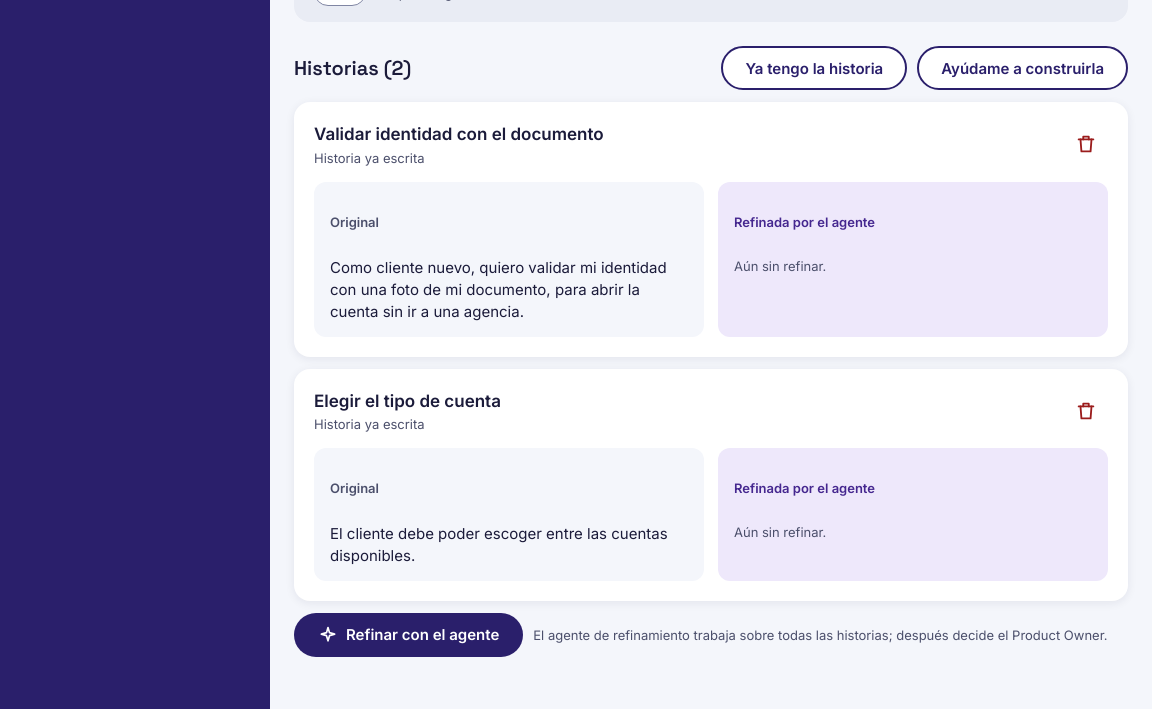
Scenario: flujo de la fase 1 con el cliente en memoria › quien no es aprobador no ve pendientes ajenos
(page scrolled)
Click the button "Refinar con el agente" at point(409, 635), box [294,613,523,657]
(page scrolled)
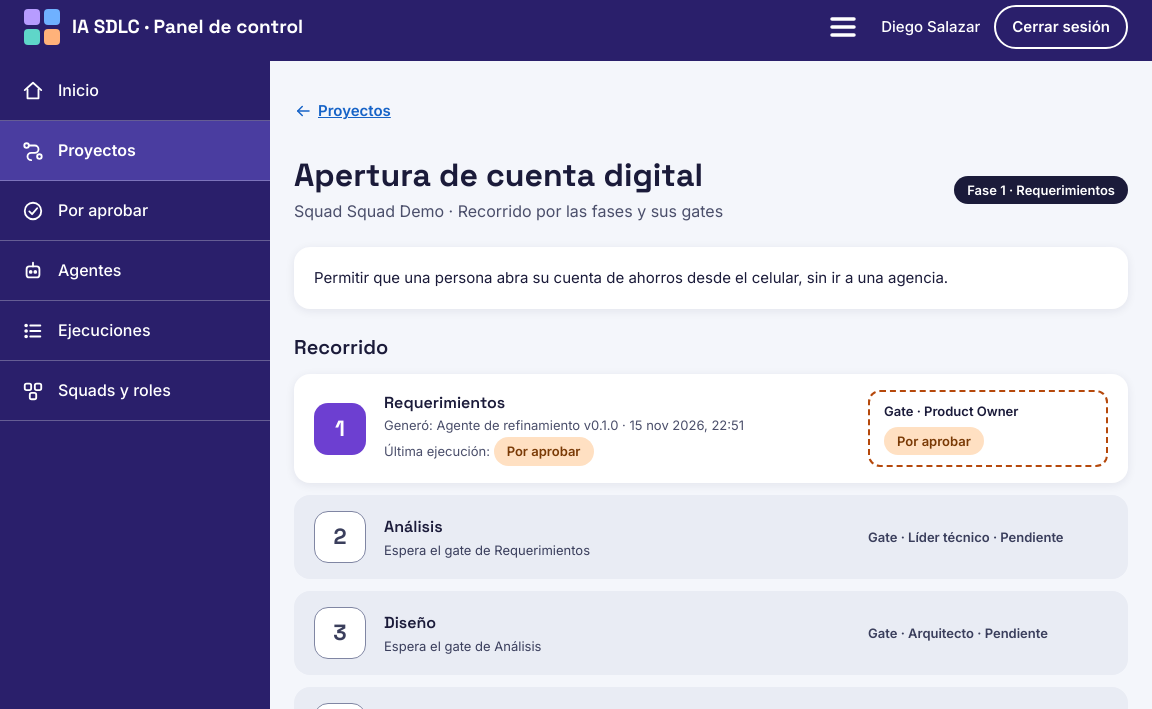
Click the link "Por aprobar" at point(135, 211), box [0,181,270,241]
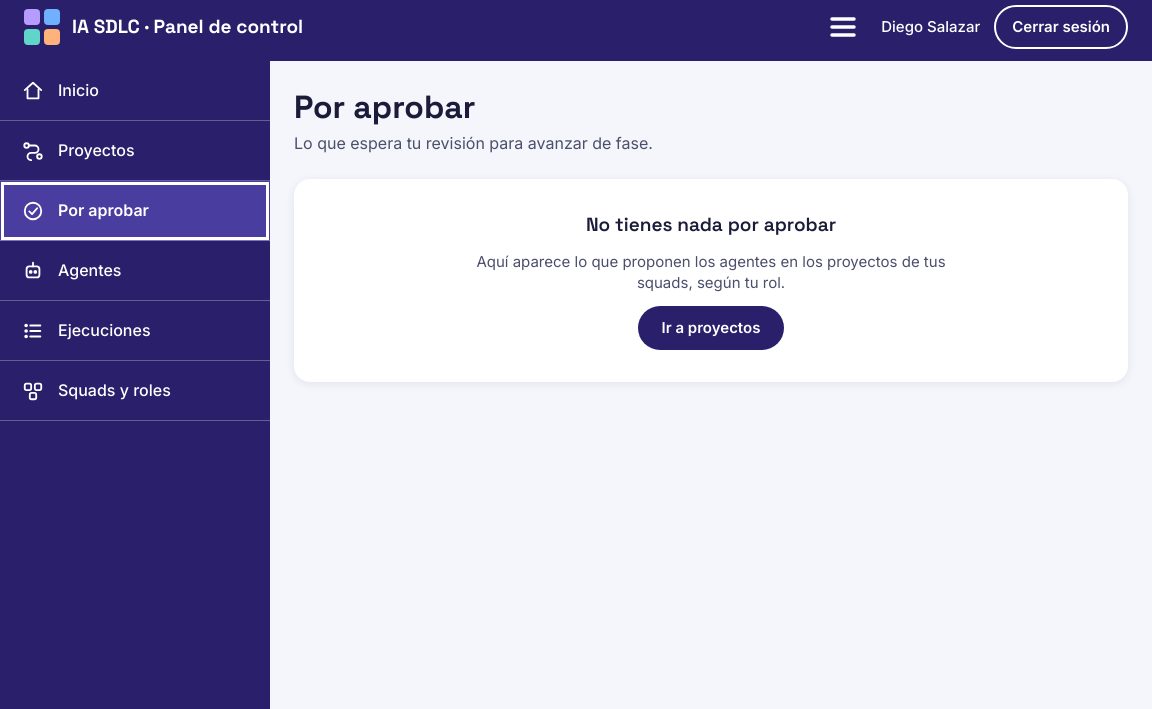
Expected: the text "No tienes nada por aprobar" is shown, [586,211,836,238]
